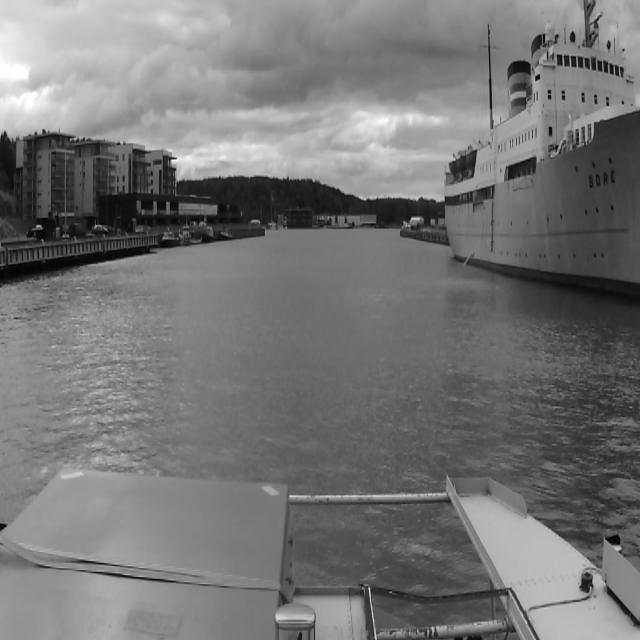ship: (444, 0, 640, 300), (161, 227, 179, 249), (221, 227, 233, 241), (398, 218, 409, 231)
